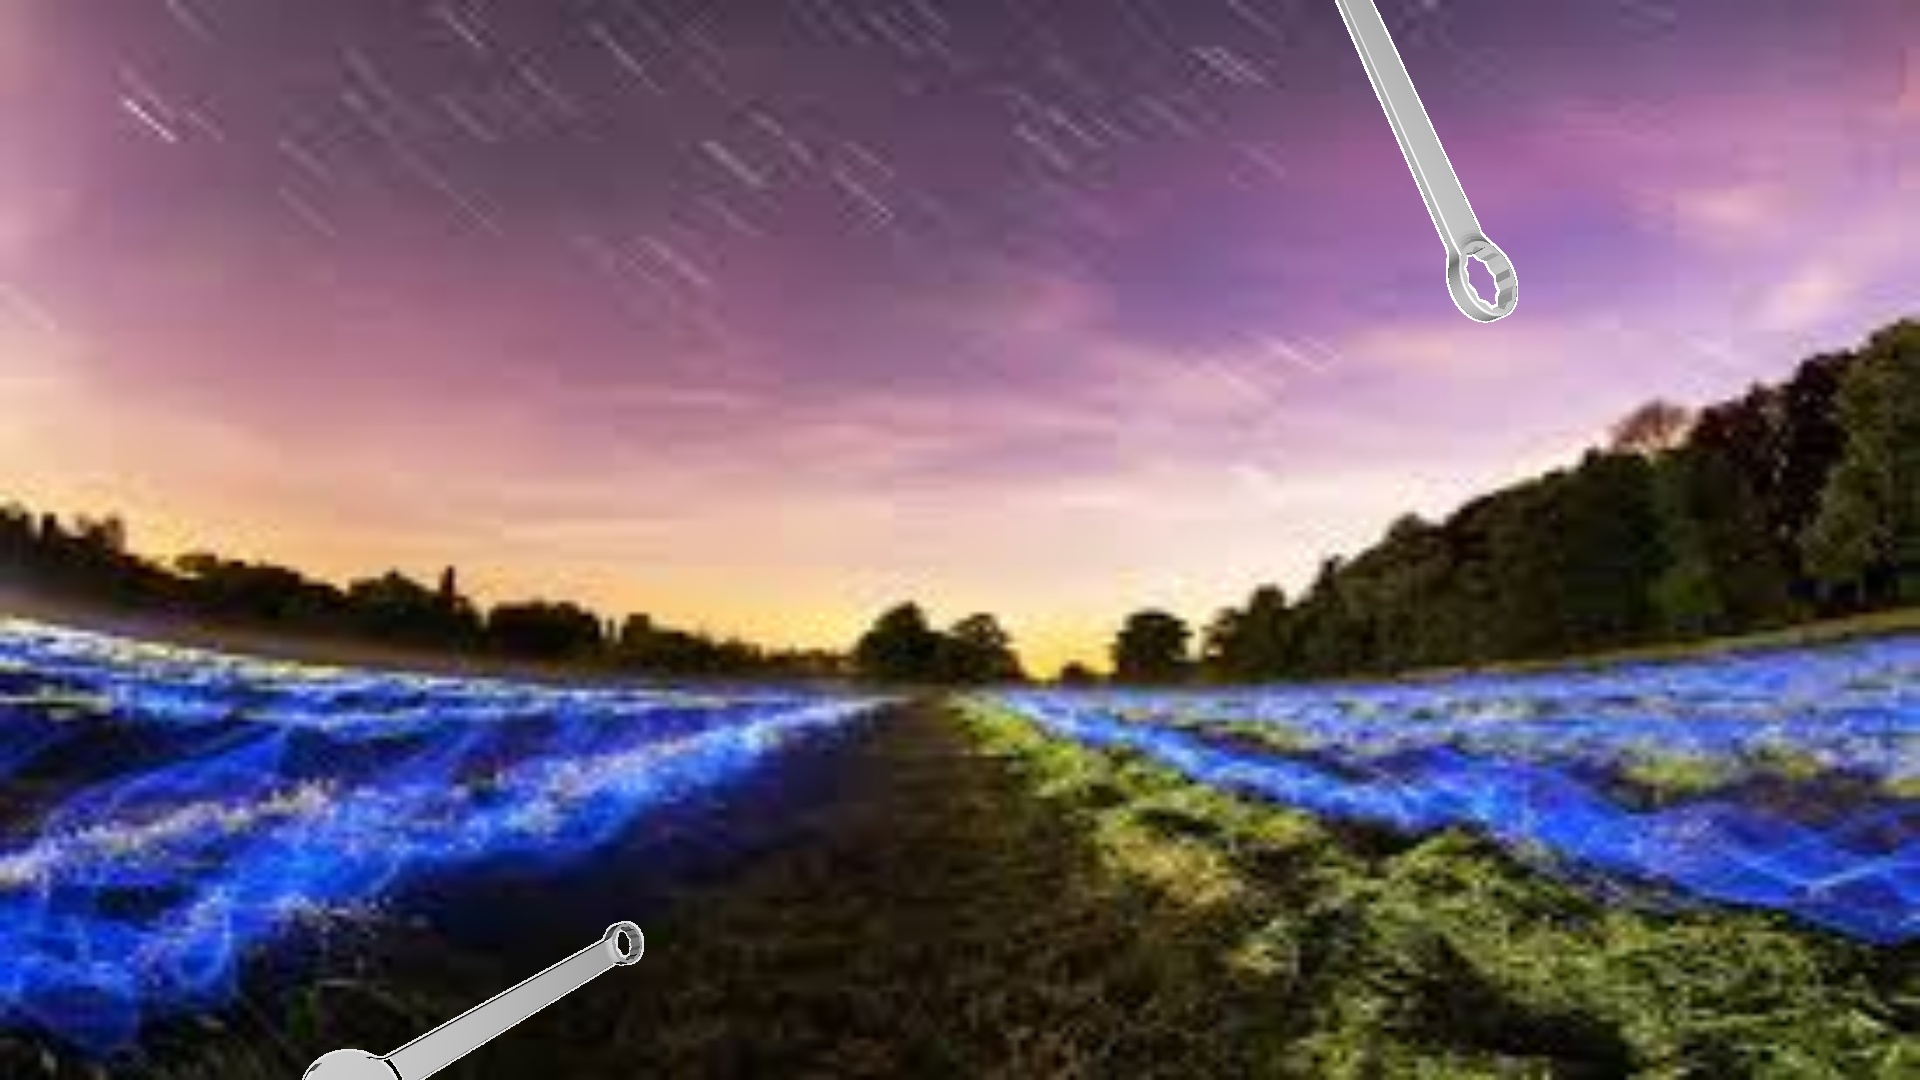Mixed Key: (1335, 0, 1516, 322), (302, 920, 644, 1079)
